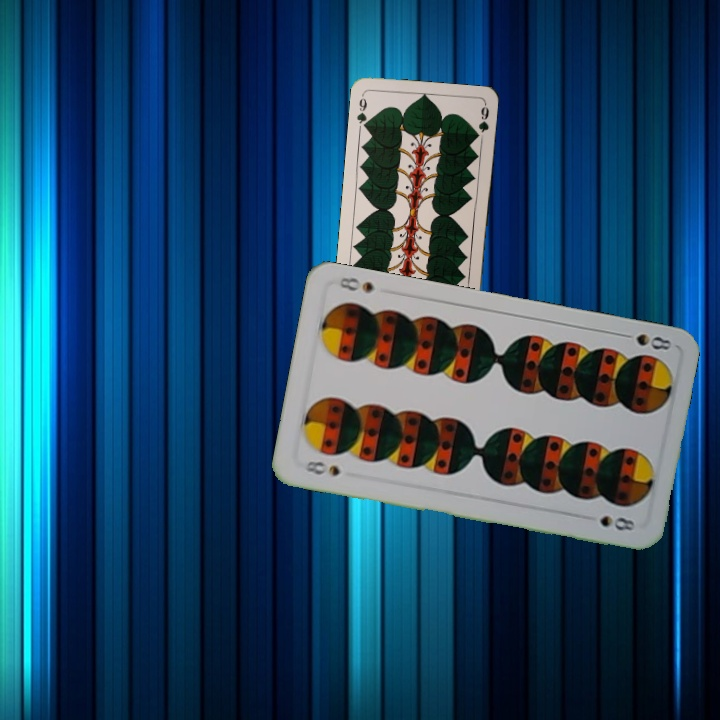G9: (352, 91, 371, 132)
S8: (616, 329, 674, 353), (299, 456, 343, 479)
